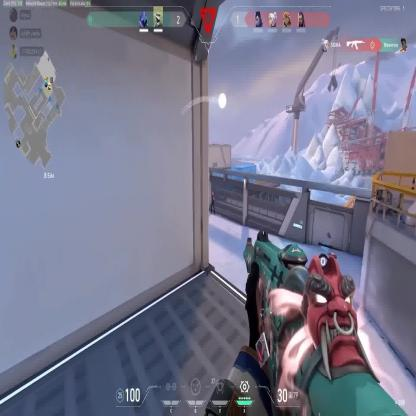enemy: (211, 191, 215, 214)
enemy_head: (212, 191, 214, 197)
